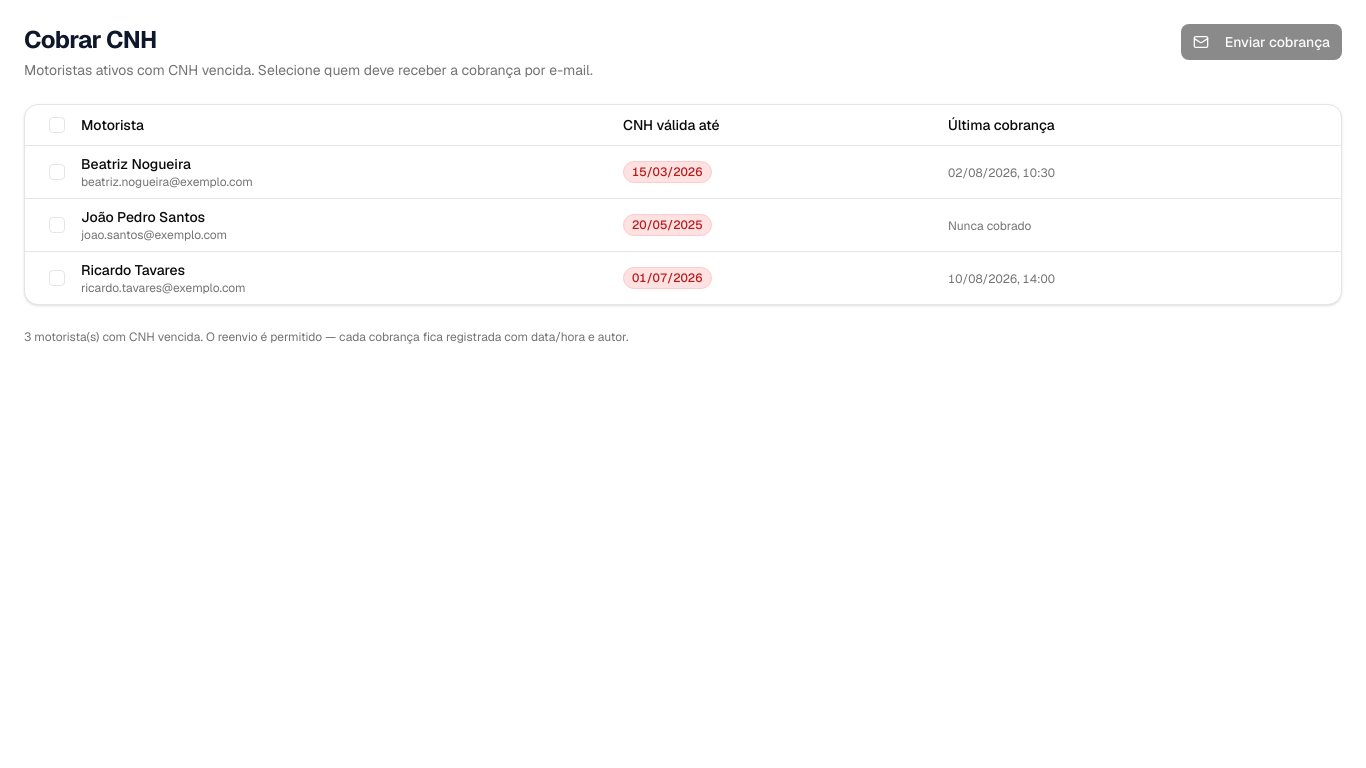
Test: CnhCollectionClient — render › botão abre ConfirmDialog com contagem e nomes antes de enviar
This screenshot has width=1366, height=768.
Seleciona dois motoristas
Click the checkbox named "Selecionar Beatriz Nogueira".
click(57, 172)  # box [49,164,65,180]
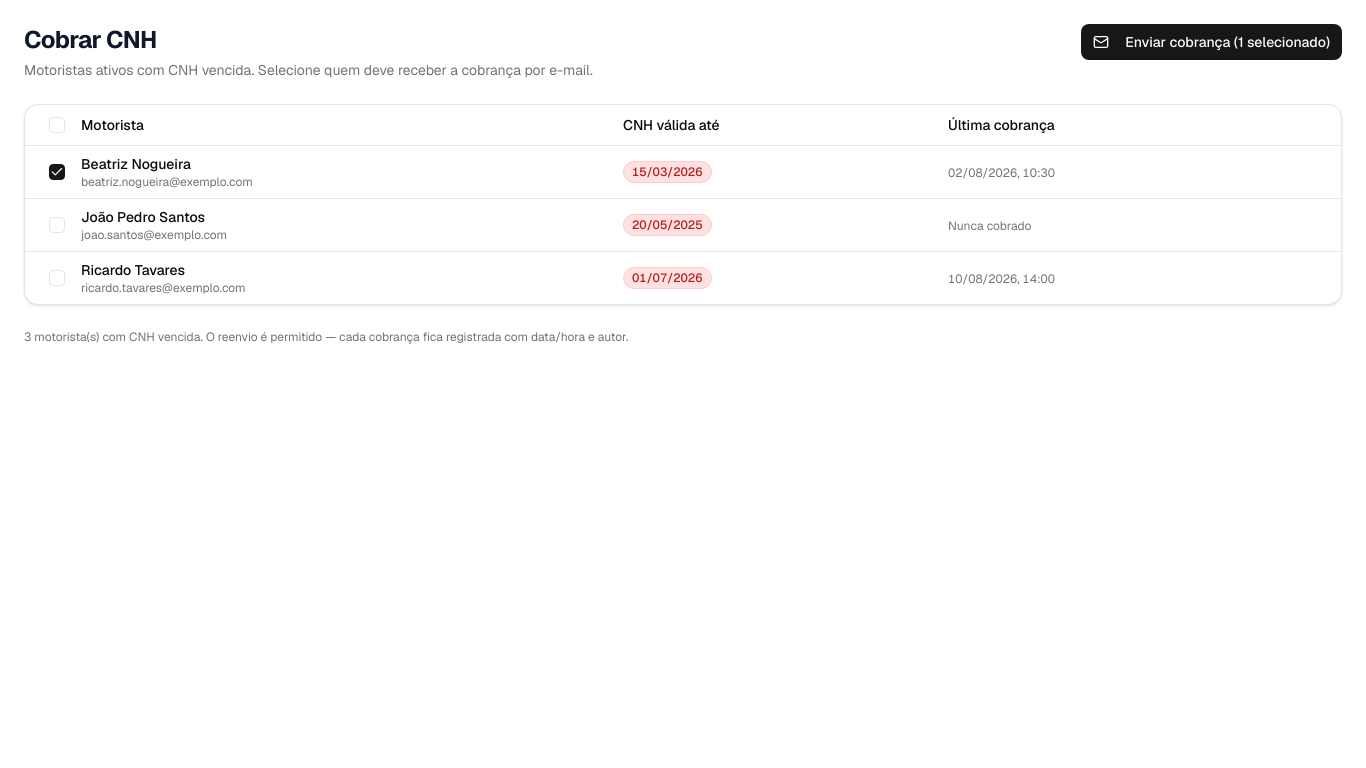
Click the checkbox named "Selecionar João Pedro Santos".
click(57, 224)  # box [49,216,65,232]
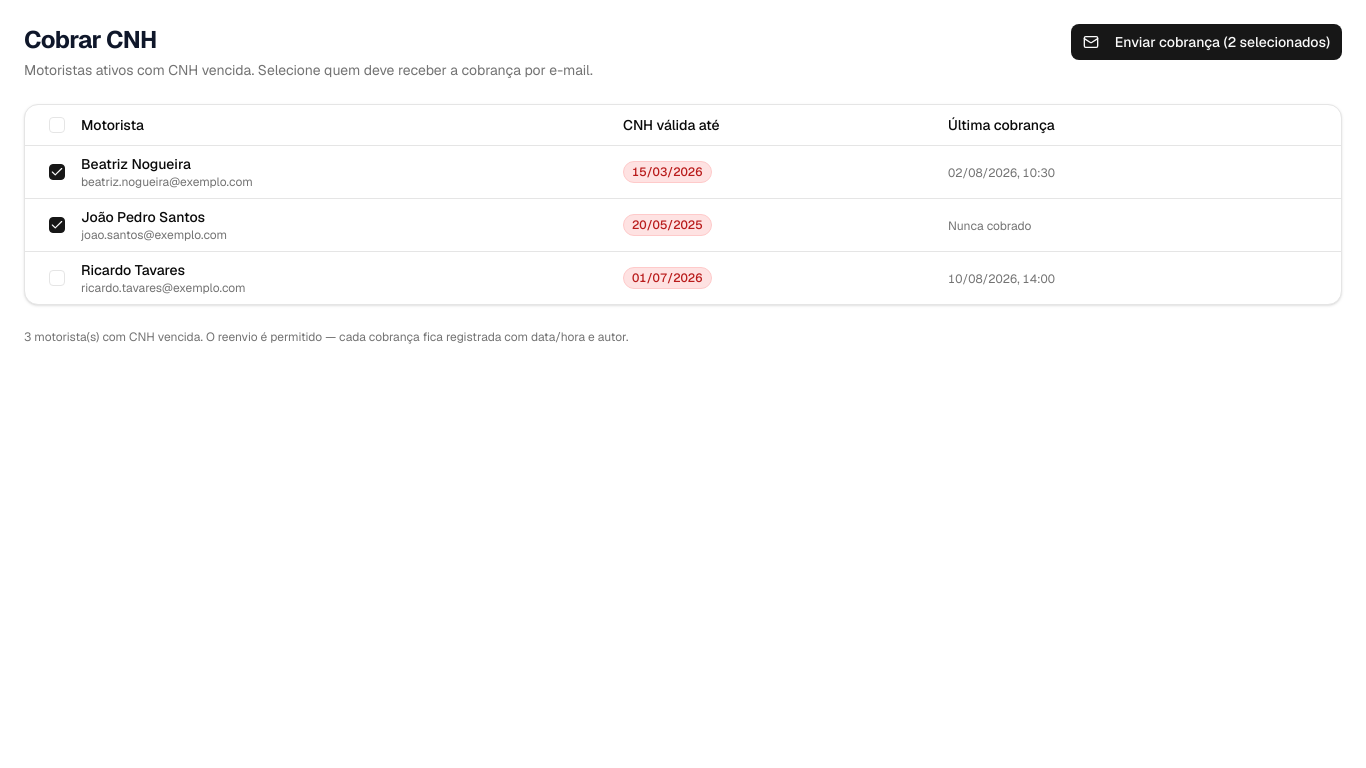
Clica no botão de enviar
Click the button "Enviar cobrança (2 selecionados)".
click(1206, 42)  # box [1071,24,1342,60]
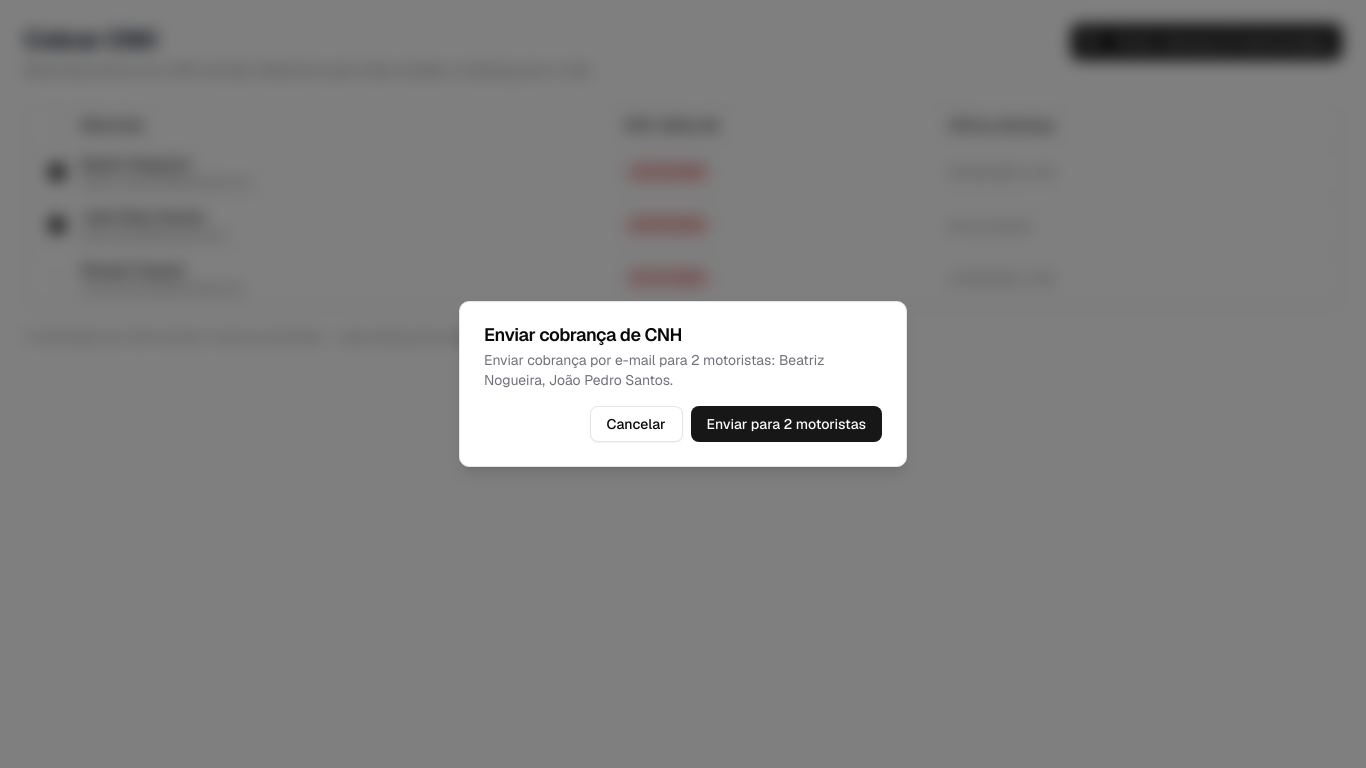
Expected: the heading "Enviar cobrança de CNH" is shown, [484,323,682,346]
Expected: the button "Enviar para 2 motoristas" is shown, [690,406,882,442]
